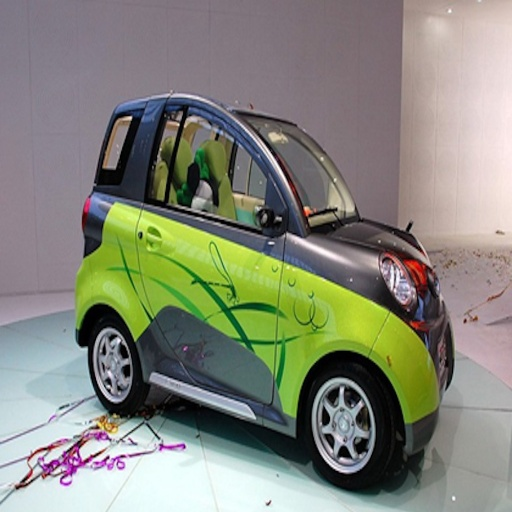front_right_door: (163, 102, 287, 402)
front_right_light: (379, 259, 427, 338)
